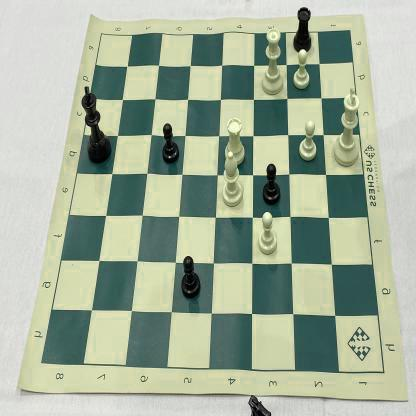black-king: (78, 80, 112, 168)
black-pawn: (178, 250, 202, 304), (260, 158, 284, 207), (158, 120, 182, 168)
black-rook: (288, 2, 316, 55)
white-bishop: (219, 150, 246, 209)
white-king: (329, 84, 363, 169)
white-pawn: (254, 209, 282, 258), (296, 118, 321, 165), (290, 47, 312, 94)
white-queen: (258, 23, 286, 99)
white-rook: (221, 110, 249, 167)
